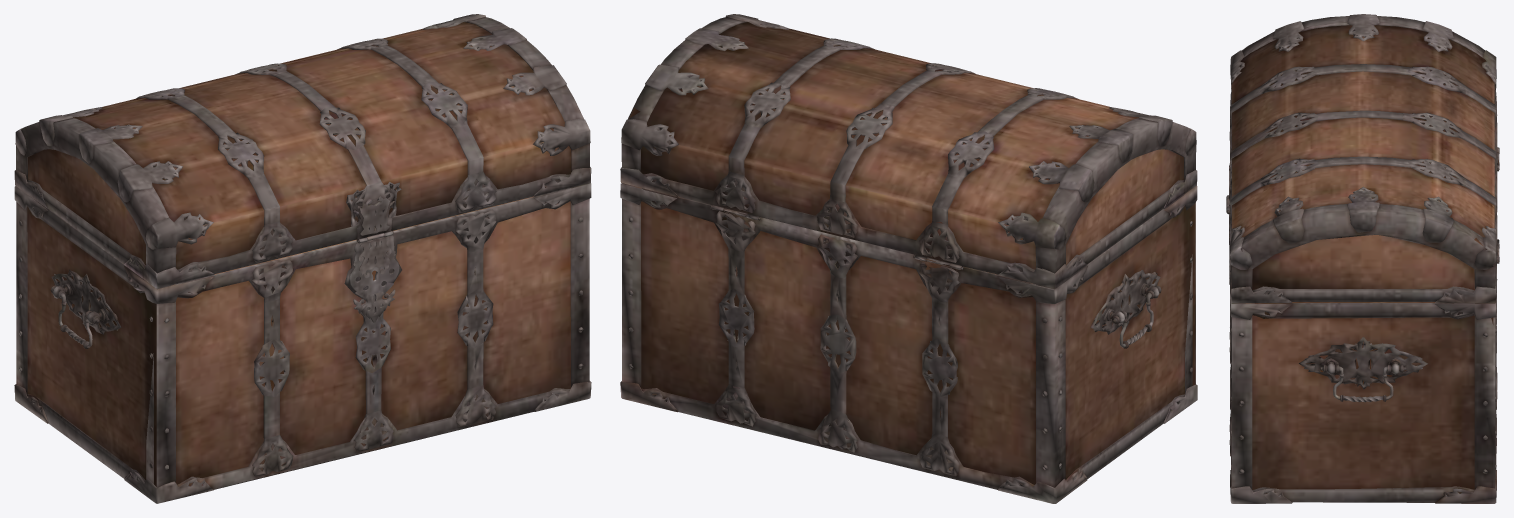
The model's file is treasure_chest.glb.
The picture shows the model from 3 angles, left to right: view 1: azimuth 30°, elevation 25°; view 2: azimuth 150°, elevation 25°; view 3: azimuth 270°, elevation 25°; orthographic projection. The views are drawn at different scales.
Visible parts, largest first — view 1: treasure_chest_bottom, treasure_chest_lid, treasure_chest_lock, treasure_chest_handle_left; view 2: treasure_chest_bottom, treasure_chest_lid, treasure_chest_handle_left; view 3: treasure_chest_lid, treasure_chest_bottom, treasure_chest_handle_right.
Boxes of the visible parts, x1=… form: treasure_chest_bottom: x1=14, y1=183, x2=591, y2=503; treasure_chest_lid: x1=14, y1=14, x2=591, y2=288; treasure_chest_lock: x1=349, y1=233, x2=399, y2=322; treasure_chest_handle_left: x1=50, y1=285, x2=100, y2=348; treasure_chest_bottom: x1=620, y1=183, x2=1197, y2=503; treasure_chest_lid: x1=620, y1=14, x2=1197, y2=288; treasure_chest_handle_left: x1=1112, y1=285, x2=1161, y2=348; treasure_chest_lid: x1=1226, y1=14, x2=1499, y2=302; treasure_chest_bottom: x1=1229, y1=134, x2=1499, y2=503; treasure_chest_handle_right: x1=1320, y1=365, x2=1406, y2=402.
Size of the model in its own units: 0.959 by 0.6181 by 0.5223.
Materials: 1 (1 with a texture image).
